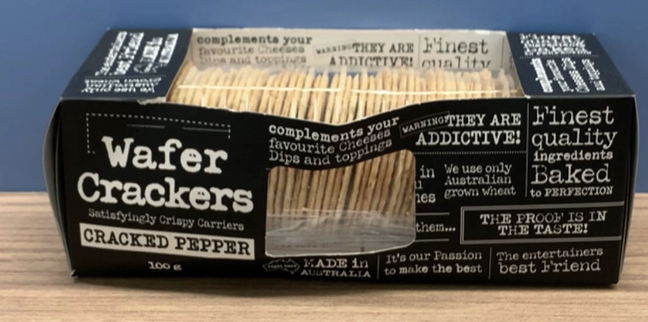crackers_100g-199g: (74, 63, 615, 271)
